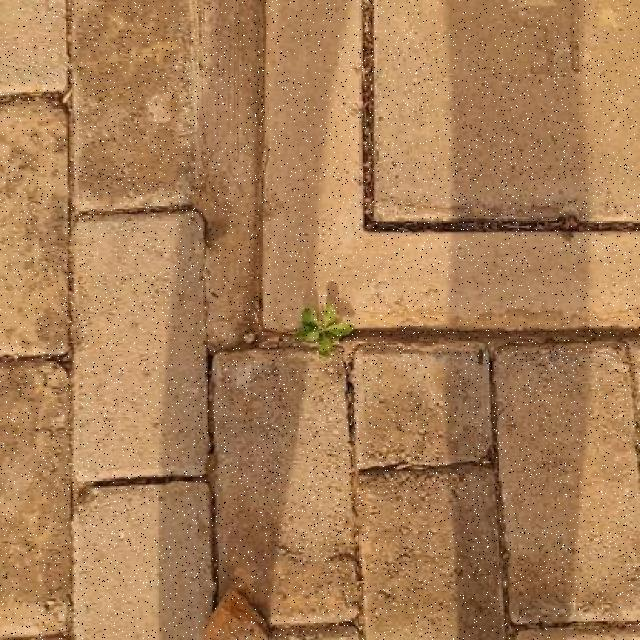weed: (295, 305, 354, 356)
